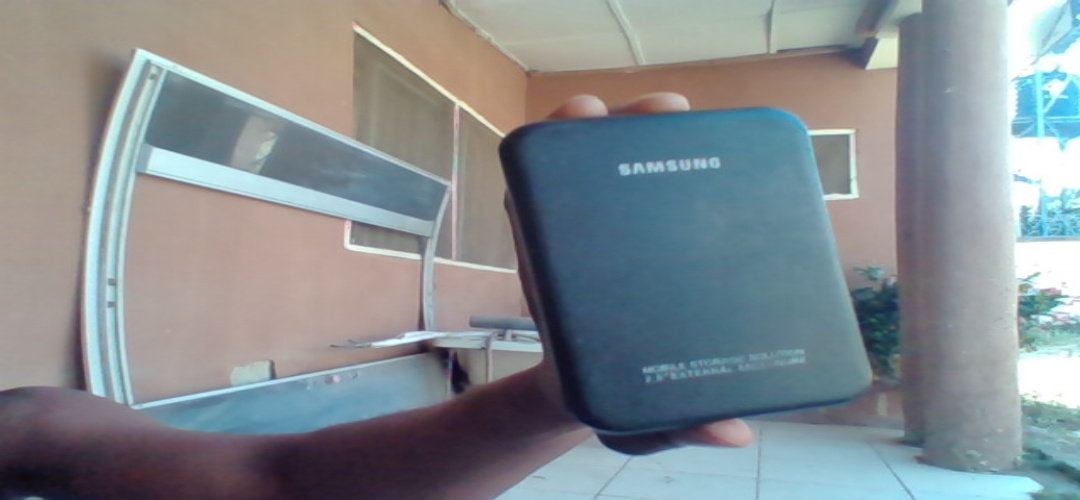hard_disk_case: (502, 128, 877, 427)
